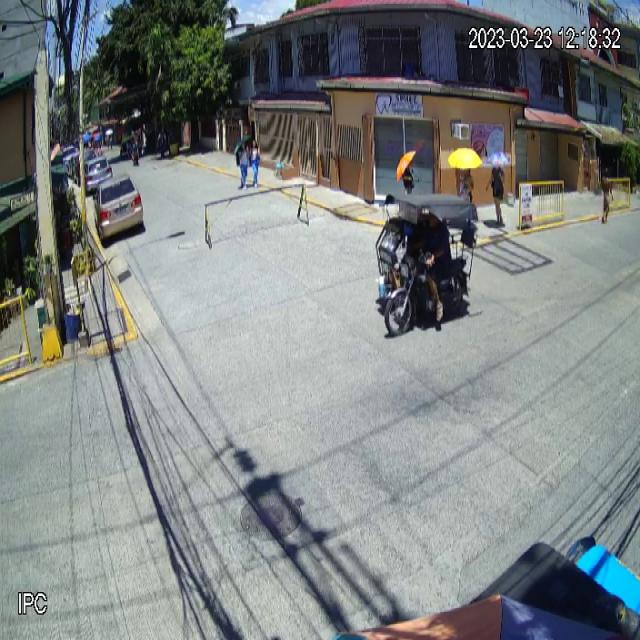Car: (92, 172, 144, 241)
Tricycle: (374, 192, 478, 339)
